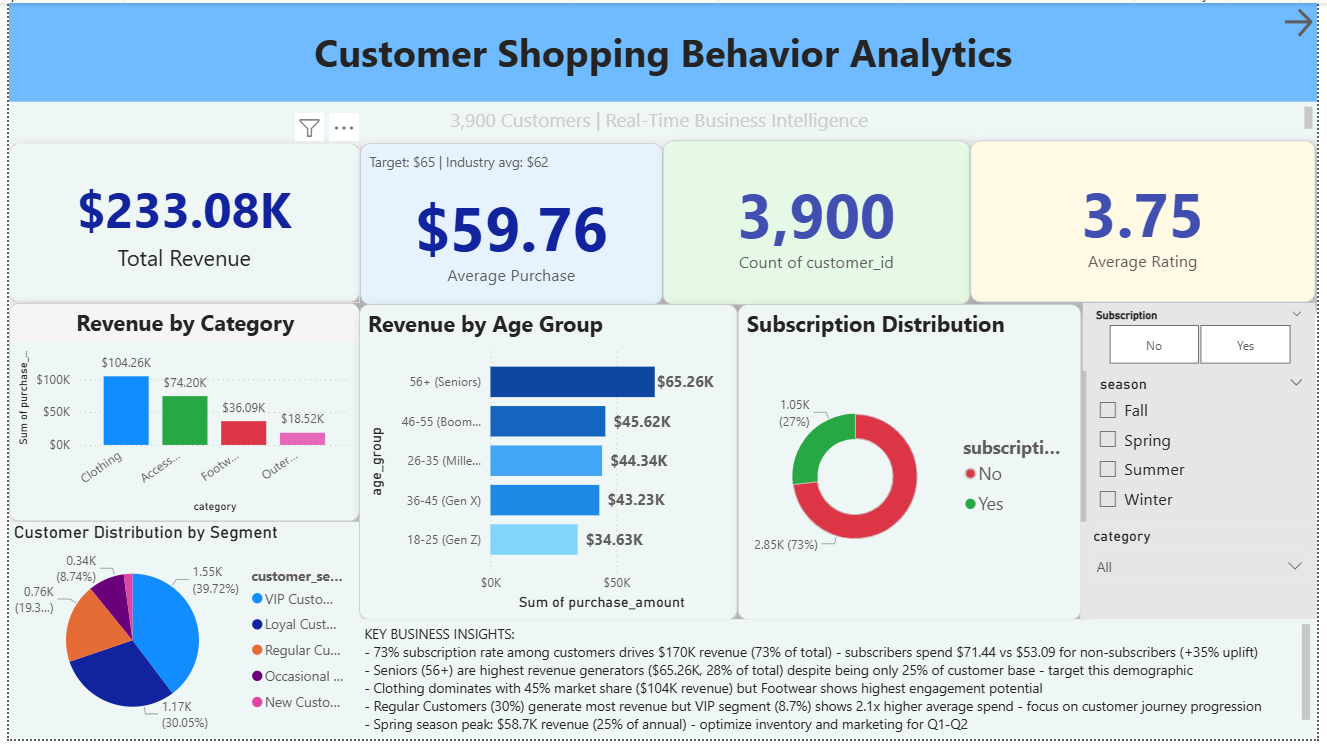

What the dashboard file says about the page in this screenshot:
{"tool":"powerbi","page":{"name":"Executive Overview","canvas":[1280,720],"ordinal":0},"visuals":[{"type":"textbox","box":[0,0,1280.3,96.6],"z":0},{"type":"textbox","box":[0,96.6,1280.3,40.4],"z":1000},{"type":"card","fields":{"Values":["Sum(customer_enhanced.purchase_amount)"]},"box":[0,137.3,343.2,155.8],"z":2000},{"type":"card","fields":{"Values":["Avg(customer_enhanced.purchase_amount)"]},"box":[343.2,137.3,295.7,158.4],"z":3000},{"type":"card","fields":{"Values":["Count(customer_enhanced.customer_id)"]},"box":[638.9,134.7,301,161.1],"z":4000},{"type":"card","fields":{"Values":["Avg(customer_enhanced.review_rating)"]},"box":[939.9,134.7,338,158.4],"z":5000},{"type":"clusteredColumnChart","title":"Revenue by Category","fields":{"Category":["customer_enhanced.category"],"Y":["Sum(customer_enhanced.purchase_amount)"]},"box":[0,293.1,343.2,213.9],"z":6000},{"type":"clusteredBarChart","title":"Revenue by Age Group","fields":{"Category":["customer_enhanced.age_group"],"Y":["Sum(customer_enhanced.purchase_amount)"]},"box":[342.9,294.3,370,308.6],"z":7000},{"type":"donutChart","title":"Subscription Distribution","fields":{"Category":["customer_enhanced.subscription_status"],"Y":["Count(customer_enhanced.customer_id)"]},"box":[712.9,294.3,335.7,308.6],"z":8000},{"type":"slicer","fields":{"Values":["customer_enhanced.subscription_status"]},"box":[1050.8,293.1,227.1,66],"z":9000},{"type":"slicer","fields":{"Values":["customer_enhanced.season"]},"box":[1053.5,359.1,224.4,147.9],"z":10000},{"type":"slicer","fields":{"Values":["customer_enhanced.category"]},"box":[1048.2,506.9,232.3,95.1],"z":11000},{"type":"pieChart","title":"Customer Distribution by Segment","fields":{"Category":["customer_enhanced.customer_segment"],"Y":["Count(customer_enhanced.customer_id)"]},"box":[0,507,342,213],"z":12000},{"type":"textbox","box":[342.9,602.9,935.7,117.1],"z":13000},{"type":"actionButton","box":[1242.9,0,37.1,38.6],"z":14000}]}

Visuals, with their boxes in screenshot pixels (x1, y1, x2, y2), scaled from the page's 1280x720 canvas onto the 1327x745 screenshot:
textbox: 0, 0, 1326, 100
textbox: 0, 100, 1326, 142
card - Sum(customer_enhanced.purchase_amount): 0, 142, 356, 303
card - Avg(customer_enhanced.purchase_amount): 356, 142, 662, 306
card - Count(customer_enhanced.customer_id): 662, 139, 974, 306
card - Avg(customer_enhanced.review_rating): 974, 139, 1325, 303
"Revenue by Category" clusteredColumnChart: 0, 303, 356, 525
"Revenue by Age Group" clusteredBarChart: 355, 305, 739, 624
"Subscription Distribution" donutChart: 739, 305, 1087, 624
slicer - customer_enhanced.subscription_status: 1089, 303, 1325, 372
slicer - customer_enhanced.season: 1092, 372, 1325, 525
slicer - customer_enhanced.category: 1087, 525, 1326, 623
"Customer Distribution by Segment" pieChart: 0, 525, 355, 744
textbox: 355, 624, 1326, 744
actionButton: 1289, 0, 1326, 40
